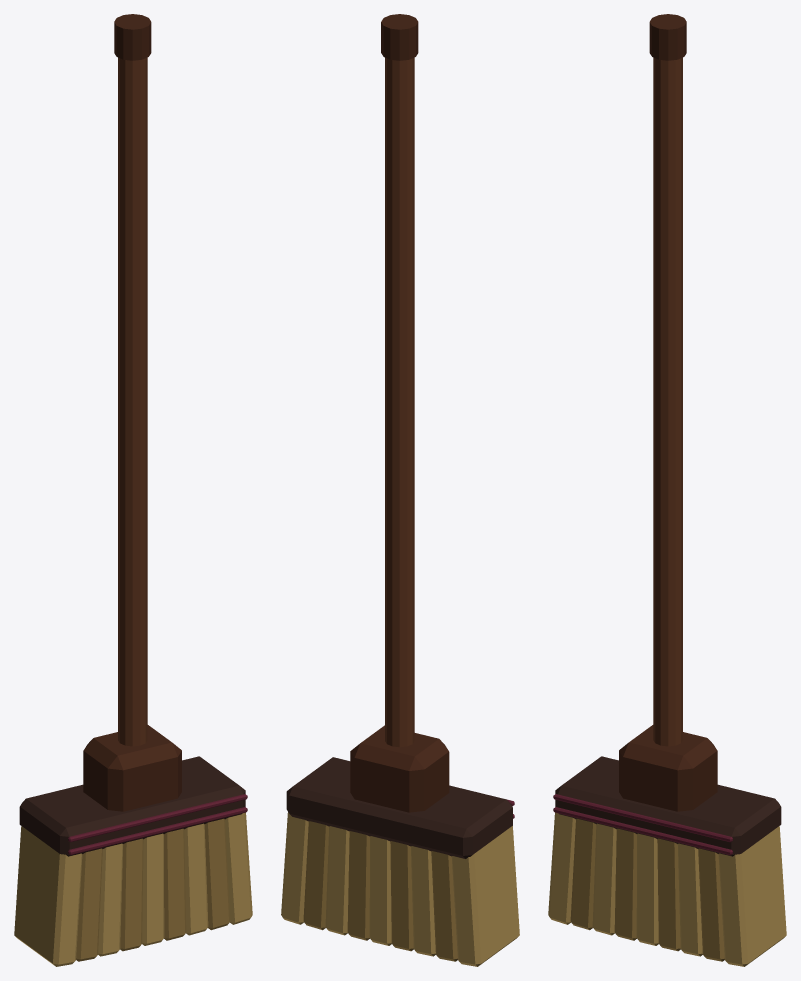
Rendered from CellarBroom.glb.
The picture shows the model from 3 angles, left to right: view 1: azimuth 30°, elevation 25°; view 2: azimuth 150°, elevation 25°; view 3: azimuth 330°, elevation 25°; orthographic projection.
Visible parts, largest first — view 1: BroomHandle, StrawBinding, StrawBundle, HeadSocket, StrawBundle.008, StrawBundle.003, StrawBundle.002, StrawBundle.001, StrawBundle.006, StrawBundle.007, StrawBundle.004, StrawBundle.005 (+3 smaller); view 2: BroomHandle, StrawBinding, StrawBundle, HeadSocket, StrawBundle.008, StrawBundle.003, StrawBundle.002, StrawBundle.001, StrawBundle.006, StrawBundle.007, StrawBundle.004, StrawBundle.005 (+1 smaller); view 3: BroomHandle, StrawBinding, StrawBundle.008, HeadSocket, StrawBundle, StrawBundle.005, StrawBundle.006, StrawBundle.007, StrawBundle.002, StrawBundle.001, StrawBundle.004, StrawBundle.003 (+3 smaller).
Boxes of the visible parts, bbox=[...] form: BroomHandle: bbox=[118, 57, 147, 746]; StrawBinding: bbox=[19, 756, 245, 856]; StrawBundle: bbox=[14, 826, 82, 966]; HeadSocket: bbox=[83, 725, 181, 811]; StrawBundle.008: bbox=[225, 812, 252, 924]; StrawBundle.003: bbox=[120, 838, 143, 951]; StrawBundle.002: bbox=[98, 843, 123, 956]; StrawBundle.001: bbox=[76, 848, 102, 961]; StrawBundle.006: bbox=[184, 823, 208, 935]; StrawBundle.007: bbox=[204, 818, 230, 930]; StrawBundle.004: bbox=[142, 833, 164, 945]; StrawBundle.005: bbox=[164, 828, 186, 940]; BroomHandle: bbox=[385, 57, 414, 747]; StrawBinding: bbox=[286, 757, 512, 858]; StrawBundle: bbox=[451, 826, 519, 966]; HeadSocket: bbox=[350, 725, 449, 812]; StrawBundle.008: bbox=[281, 812, 308, 924]; StrawBundle.003: bbox=[390, 841, 413, 951]; StrawBundle.002: bbox=[411, 846, 435, 956]; StrawBundle.001: bbox=[431, 851, 457, 961]; StrawBundle.006: bbox=[325, 826, 349, 935]; StrawBundle.007: bbox=[303, 821, 329, 930]; StrawBundle.004: bbox=[369, 836, 391, 945]; StrawBundle.005: bbox=[347, 831, 369, 940]; BroomHandle: bbox=[653, 57, 682, 746]; StrawBinding: bbox=[555, 756, 781, 856]; StrawBundle.008: bbox=[718, 826, 786, 966]; HeadSocket: bbox=[619, 725, 717, 811]; StrawBundle: bbox=[548, 812, 575, 924]; StrawBundle.005: bbox=[657, 838, 680, 951]; StrawBundle.006: bbox=[677, 843, 702, 956]; StrawBundle.007: bbox=[698, 848, 724, 961]; StrawBundle.002: bbox=[592, 823, 616, 935]; StrawBundle.001: bbox=[570, 818, 596, 930]; StrawBundle.004: bbox=[636, 833, 658, 945]; StrawBundle.003: bbox=[614, 828, 636, 940].
Size of the model in its own units: 0.8067 by 3.5 by 0.349.
